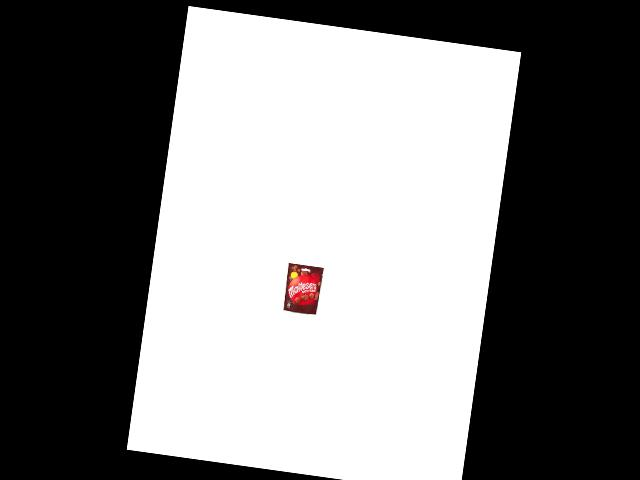chocolate: (281, 262, 324, 316)
